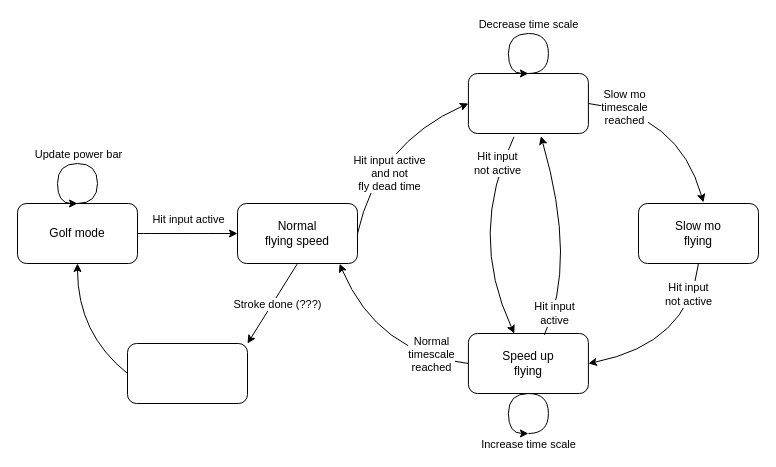
This 776x467 diagram has some shape labels left out. The shapes that lost their labels are listed below. From the top down, each one's box as (x1, y1, x2, y2) in pixels, then its label:
(467, 72, 588, 134): Slow down flying
(126, 342, 248, 404): To golf mode
